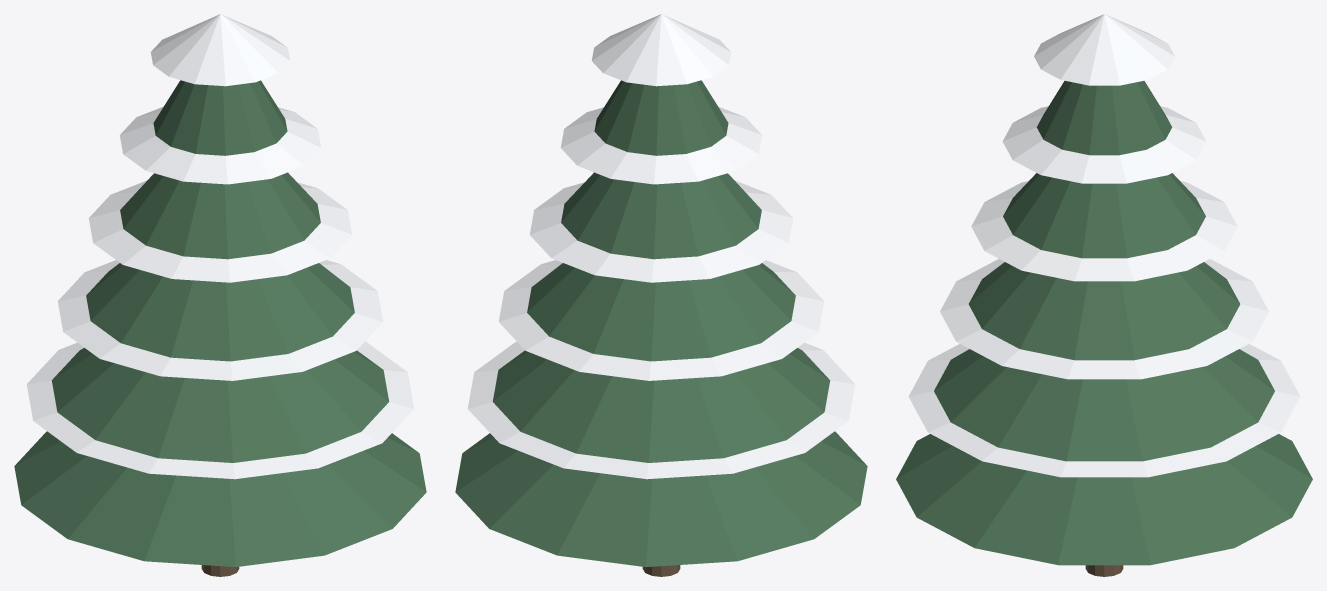
Rendered from pine_tree.glb.
3 renders of one model, left to right at view 1: azimuth 30°, elevation 25°; view 2: azimuth 150°, elevation 25°; view 3: azimuth 270°, elevation 25°, orthographic.
Parts seen in each view (by area): view 1: SnowyPineTree; view 2: SnowyPineTree; view 3: SnowyPineTree.
Part boxes in pixels (x1=…): SnowyPineTree: x1=14, y1=14, x2=426, y2=576; SnowyPineTree: x1=455, y1=14, x2=867, y2=576; SnowyPineTree: x1=896, y1=14, x2=1312, y2=576.
Size of the model in its own units: 3.9 by 5.88 by 4.
